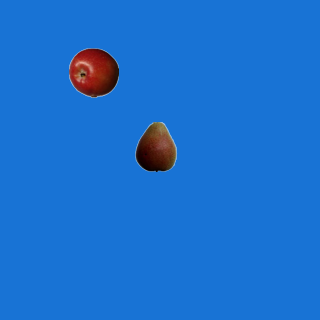Apple Braeburn: (68, 47, 118, 97)
Pear Forelle: (130, 121, 180, 171)
